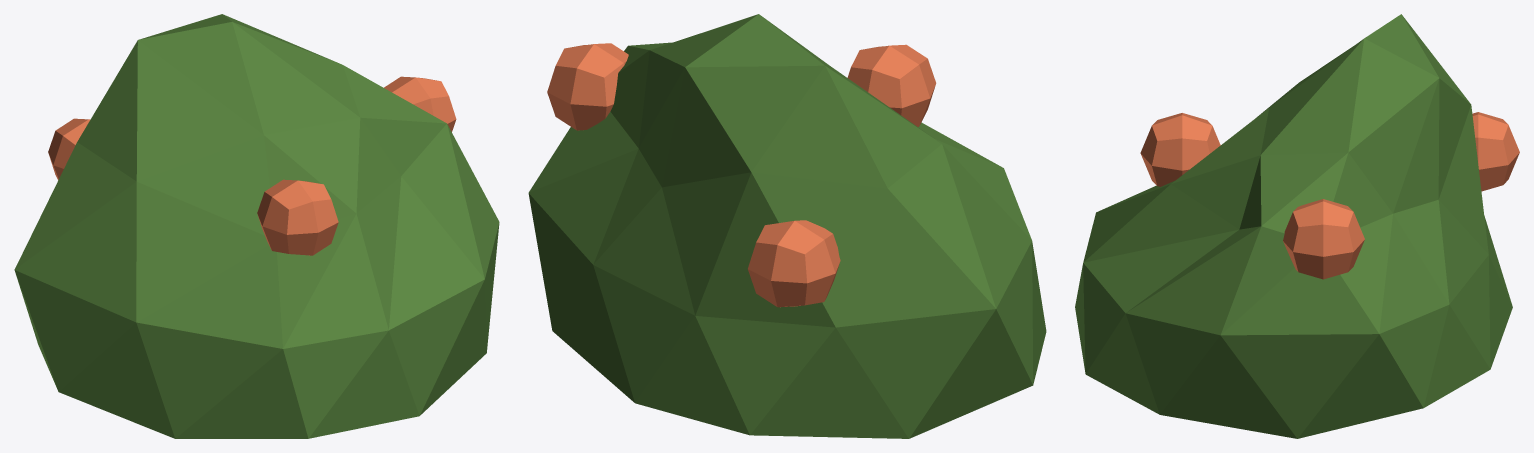
File: BushVar2_V2.fbx
3 renders of one model, left to right at view 1: azimuth 30°, elevation 25°; view 2: azimuth 150°, elevation 25°; view 3: azimuth 270°, elevation 25°, orthographic. The views are drawn at different scales.
Parts seen in each view (by area): view 1: Icosphere.001, Cube.001; view 2: Icosphere.001, Cube.001; view 3: Icosphere.001, Cube.001.
Part boxes in pixels (<box>): Icosphere.001: <box>14,14,499,438</box>; Cube.001: <box>48,76,456,255</box>; Icosphere.001: <box>528,14,1046,438</box>; Cube.001: <box>547,43,936,307</box>; Icosphere.001: <box>1075,14,1512,438</box>; Cube.001: <box>1140,112,1519,279</box>.
Bounding box in the file's own units: 96.92 × 73.45 × 89.46.
